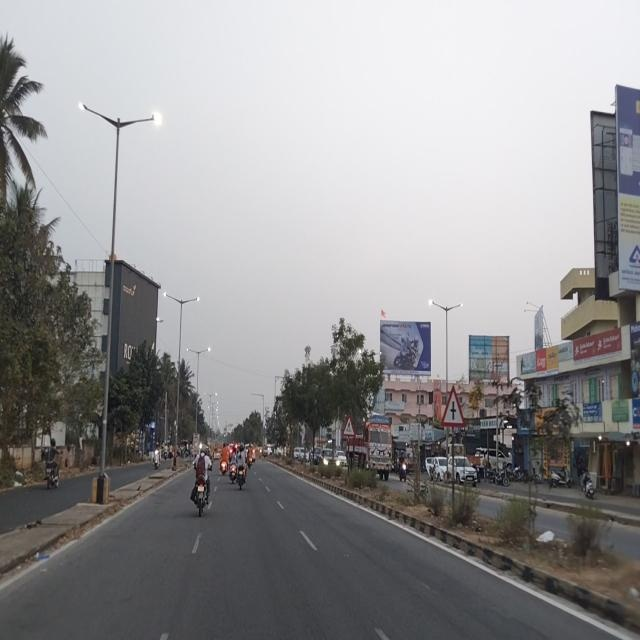bien_nguy_hiem: (440, 382, 466, 430), (341, 413, 356, 439)
